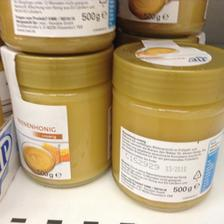Honig: (110, 38, 222, 214), (0, 42, 112, 186)
